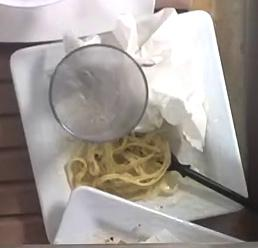pasta: (67, 133, 171, 198)
